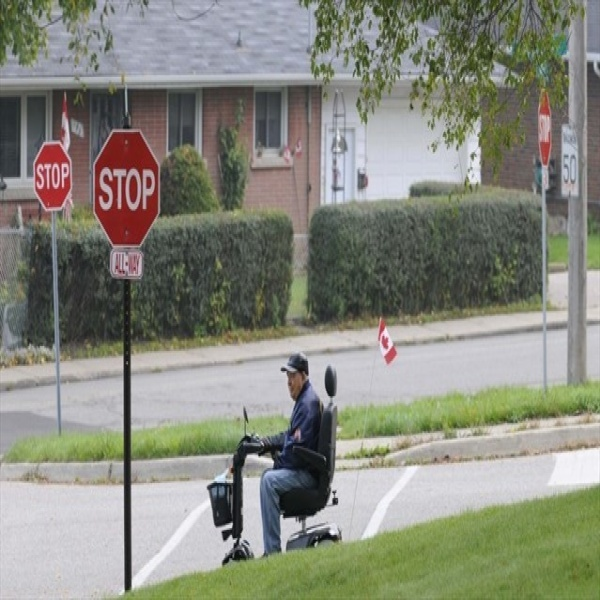stop: (354, 15, 452, 180)
